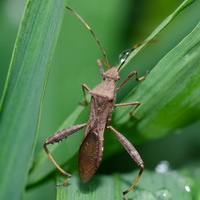insect: (43, 7, 150, 199)
